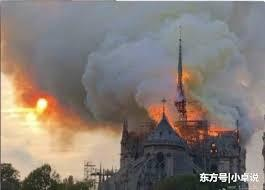fire: (146, 91, 229, 142), (16, 92, 50, 117)
